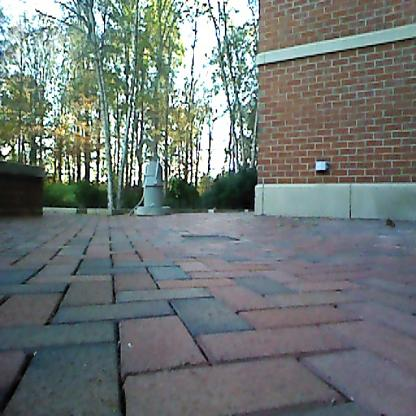Sidewalk: (0, 212, 416, 416)
